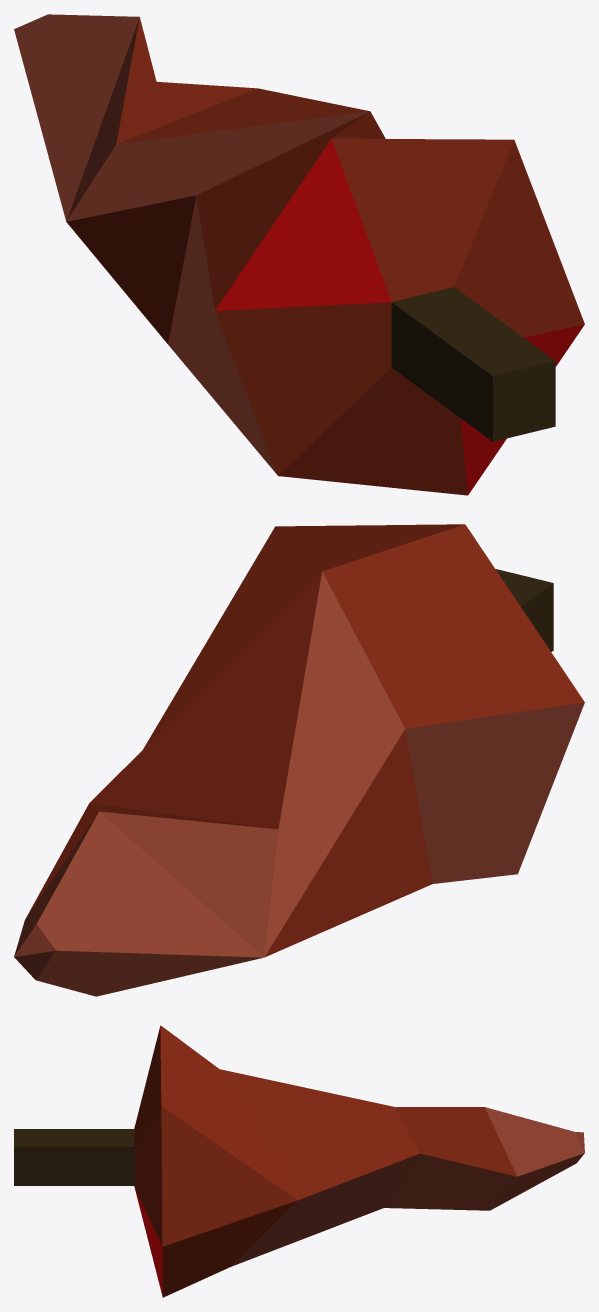
The model's file is tree_10.fbx.
The picture shows the model from 3 angles, top to bottom: view 1: azimuth 30°, elevation 25°; view 2: azimuth 150°, elevation 25°; view 3: azimuth 270°, elevation 25°; orthographic projection. The views are drawn at different scales.
Parts seen in each view (by area): view 1: tree_10; view 2: tree_10; view 3: tree_10.
Boxes of the visible parts, x1,y1,x2,y2 form: tree_10: [14, 14, 584, 495]; tree_10: [14, 524, 584, 996]; tree_10: [14, 1025, 584, 1297].
Bounding box in the file's own units: 109 × 110 × 246.
